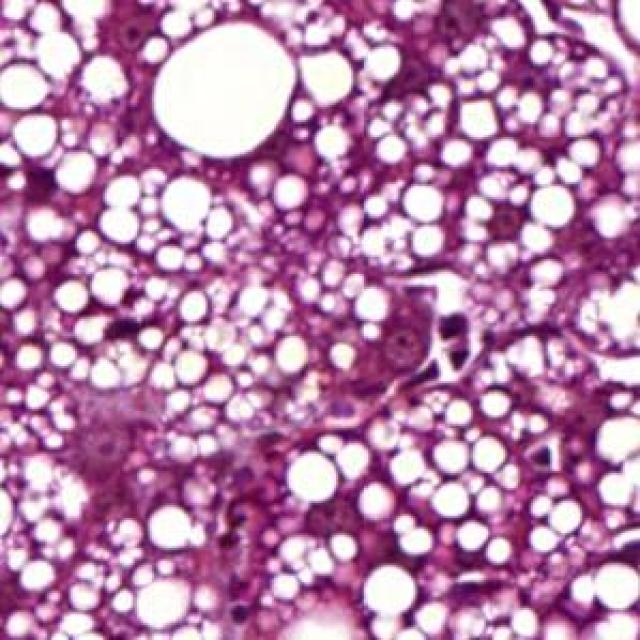steatosis: (150, 26, 300, 160)
